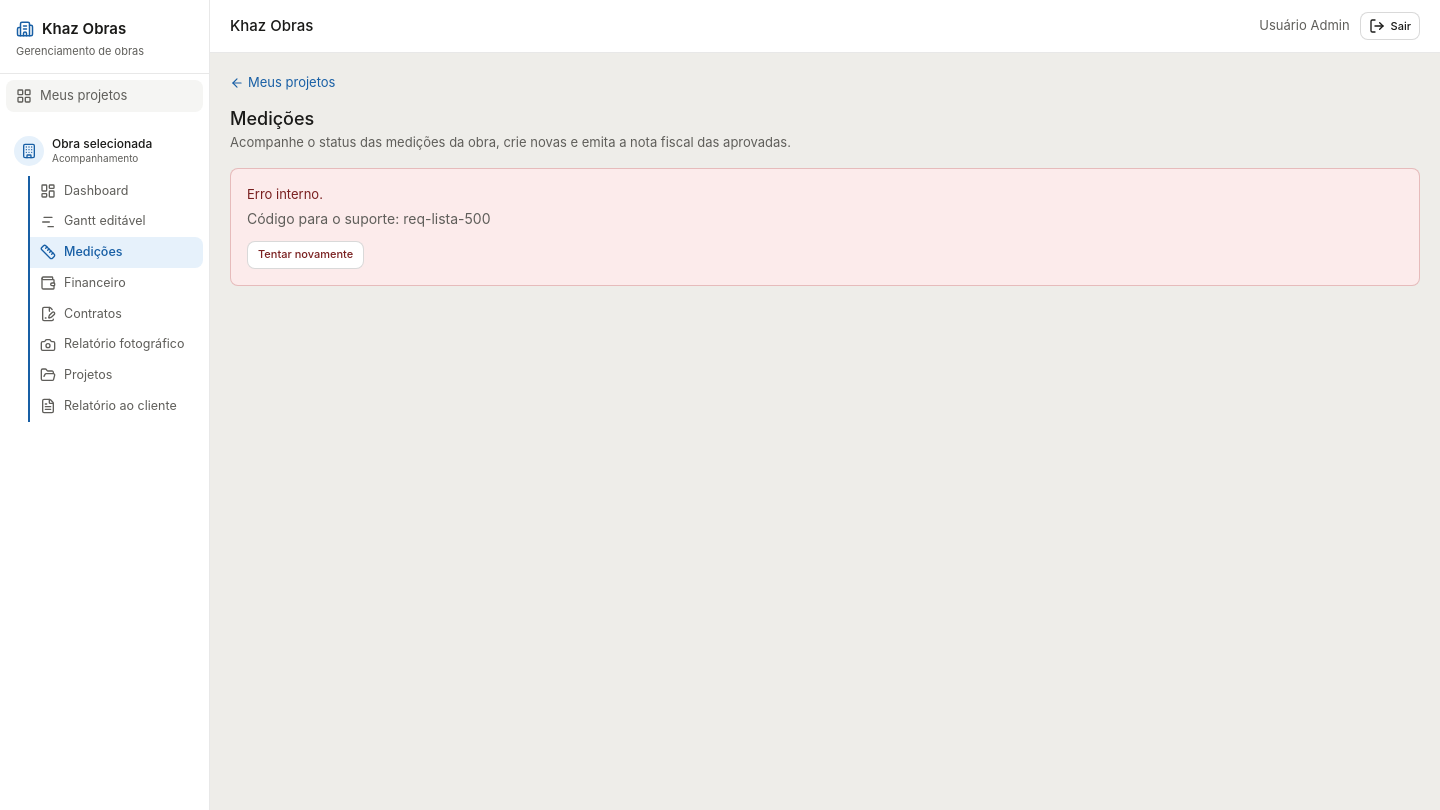
Test: Medições (admin) - lista › erro 500 mostra o código de suporte e "Tentar novamente" recarrega
Expected: the message shows "req-lista-500", [403,210,490,226]
Click the button "Tentar novamente".
click(306, 254)  # box [247,240,364,268]
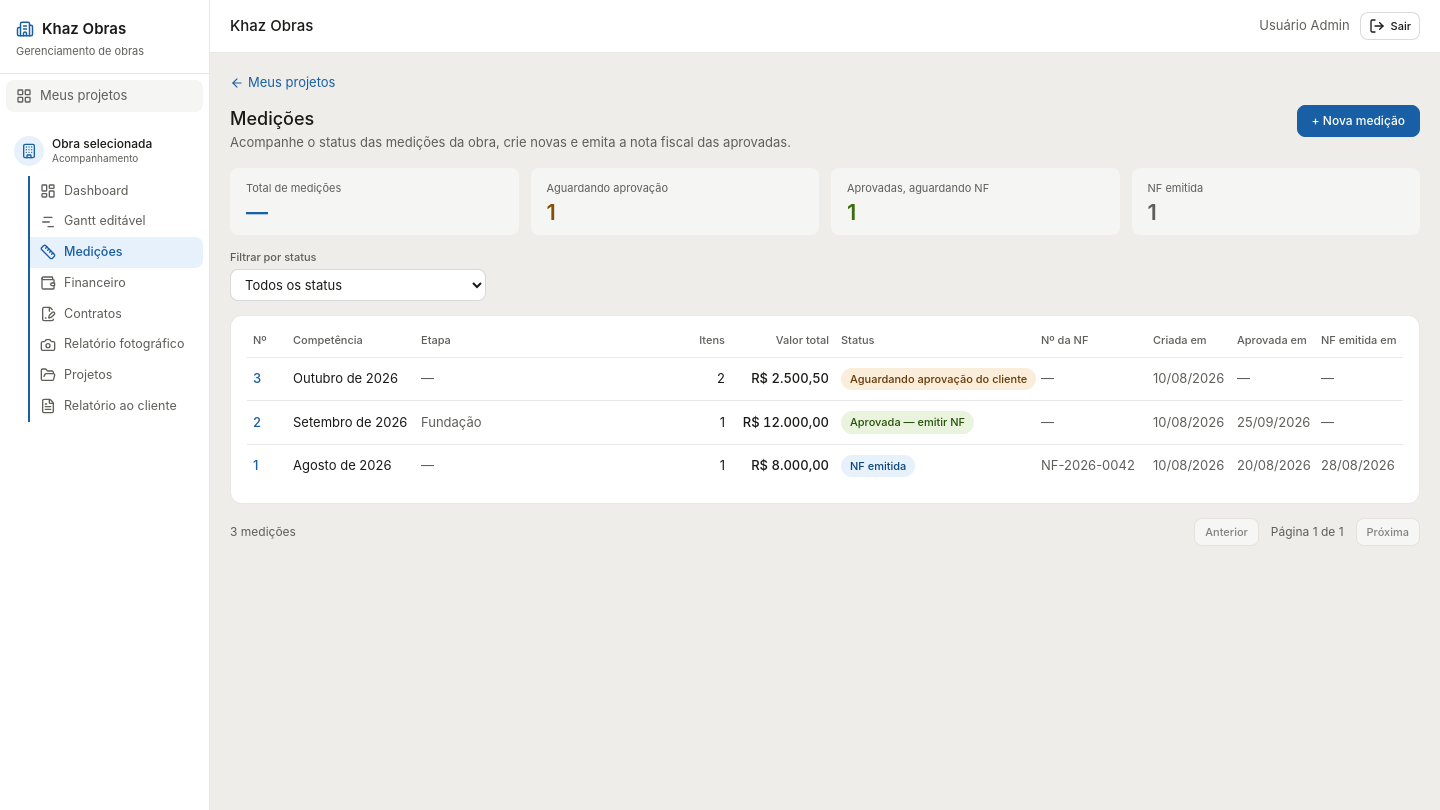
Now the table is shown, box [247,332,1403,487]
